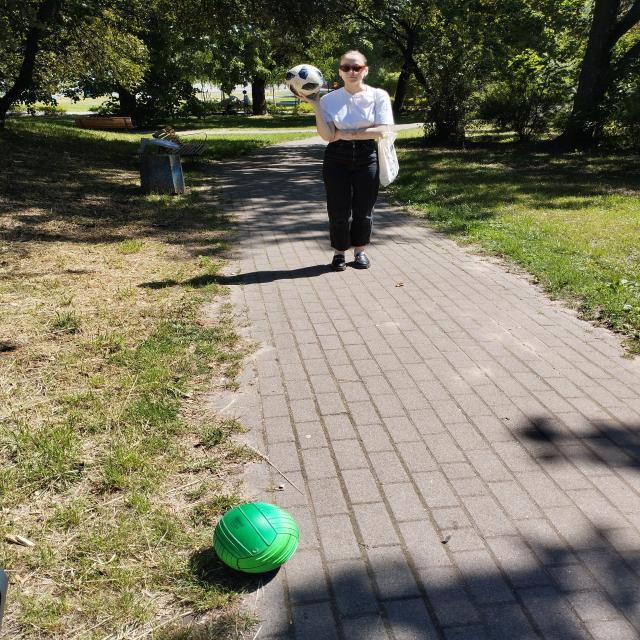nozna: (286, 64, 324, 96)
zielona: (213, 502, 300, 573)
